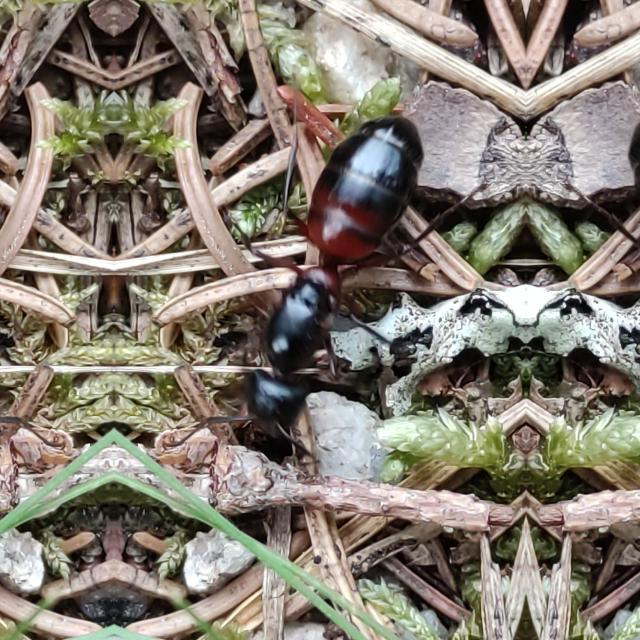Camponotus: (218, 68, 444, 464)
